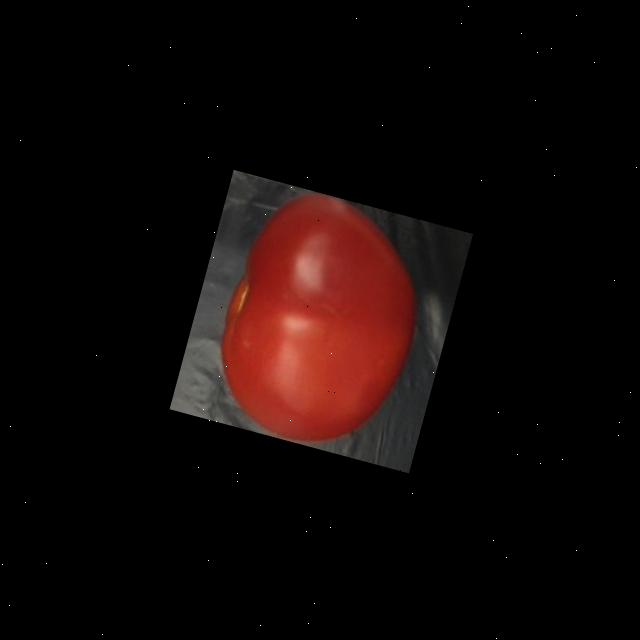tomato: (193, 175, 443, 464)
